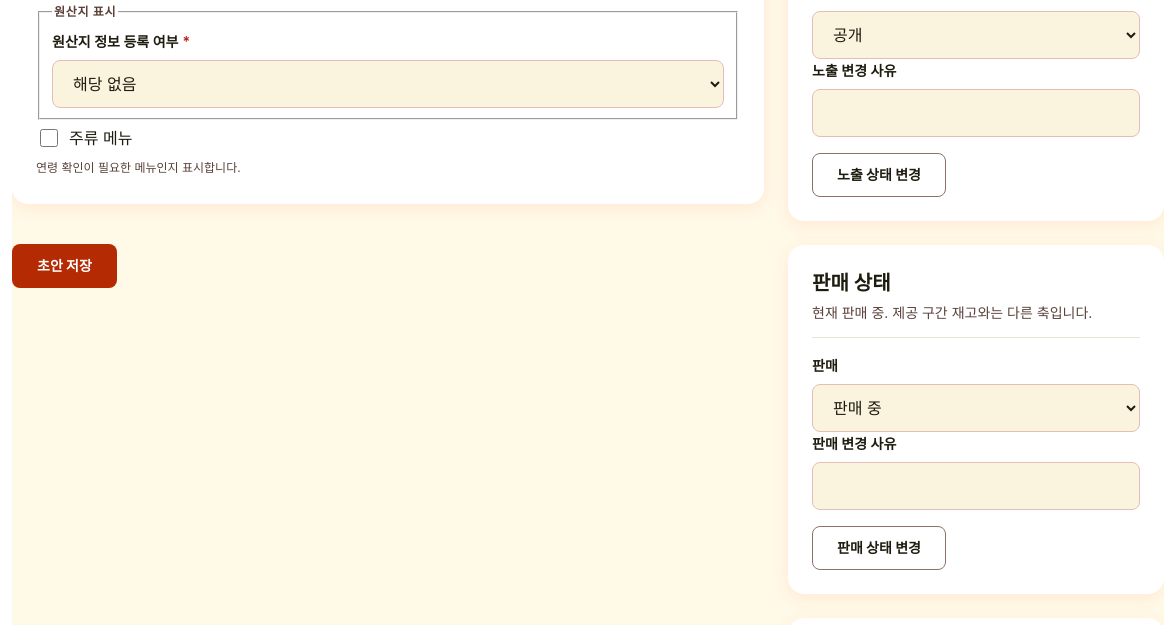
Test: 메뉴 편집 화면 › 초안 저장은 게시가 아니라고 밝힌다
(page scrolled)
Click the button "초안 저장".
click(64, 266)  # box x1=12 y1=244 x2=117 y2=288
(page scrolled)
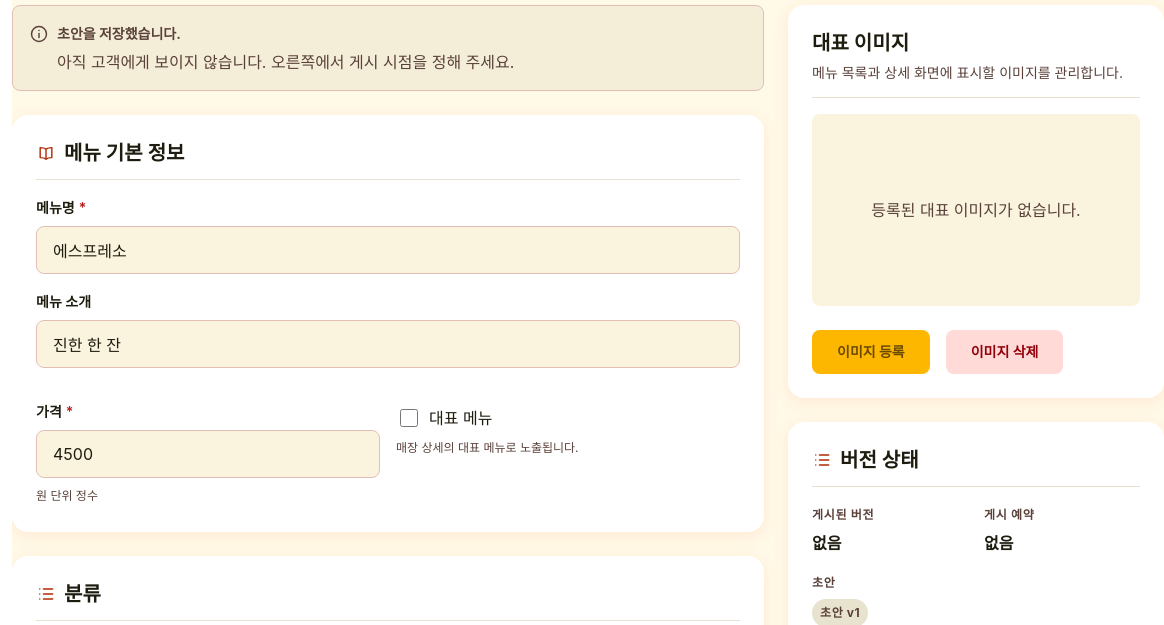
Expected: the text "초안을 저장했습니다." is shown, x1=57 y1=25 x2=181 y2=42
Expected: the text "아직 고객에게 보이지 않습니다. 오른쪽에서 게시 시점을 정해 주세요." is shown, x1=57 y1=52 x2=514 y2=72
